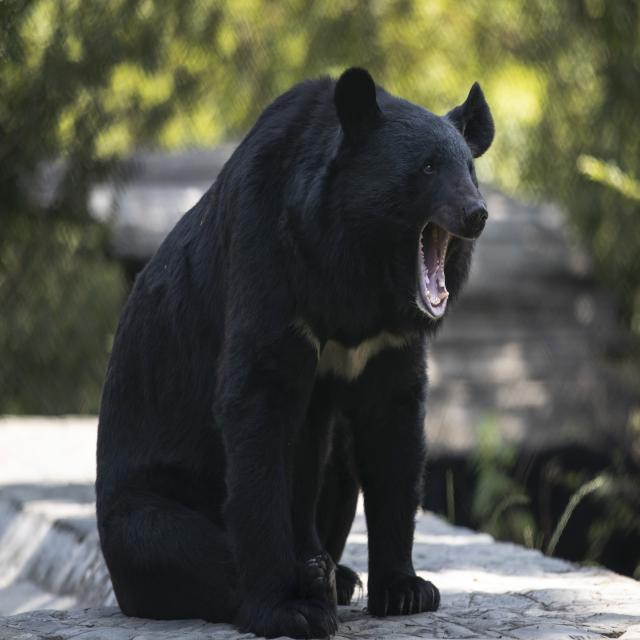bear: (26, 62, 592, 640)
